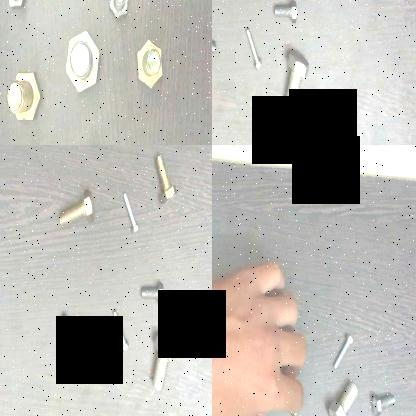Bolts: (62, 23, 102, 99), (6, 64, 42, 130), (147, 332, 182, 394), (136, 30, 166, 99), (57, 184, 102, 230), (281, 48, 311, 114), (148, 153, 178, 205), (321, 376, 359, 416), (366, 381, 402, 416), (330, 331, 358, 371), (120, 189, 141, 240), (56, 312, 88, 344), (244, 19, 262, 74), (137, 276, 167, 308), (272, 0, 300, 29), (113, 308, 129, 356), (102, 0, 133, 23), (1, 0, 30, 16), (83, 134, 101, 145)
